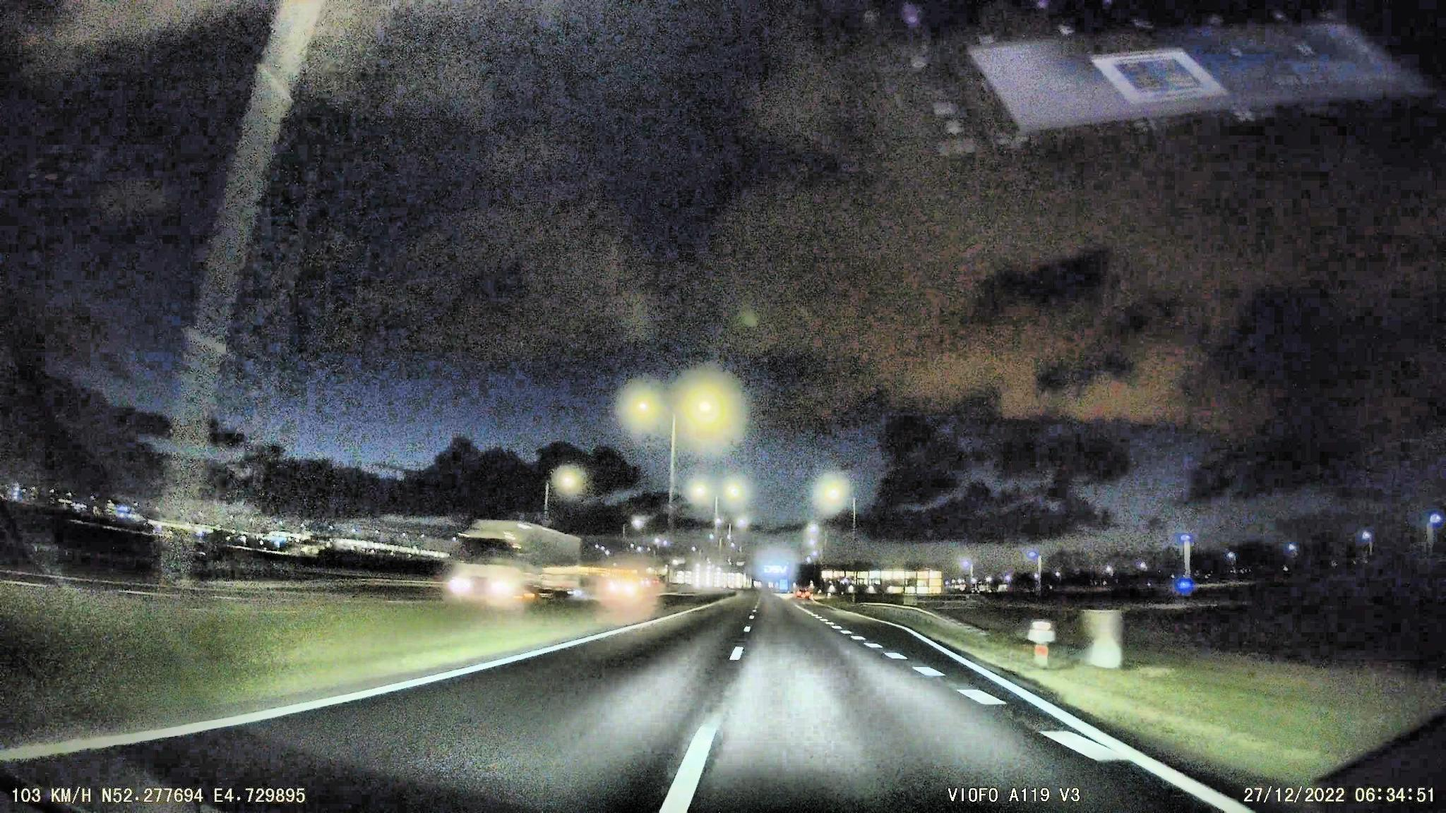Roads: (185, 591, 1101, 813)
